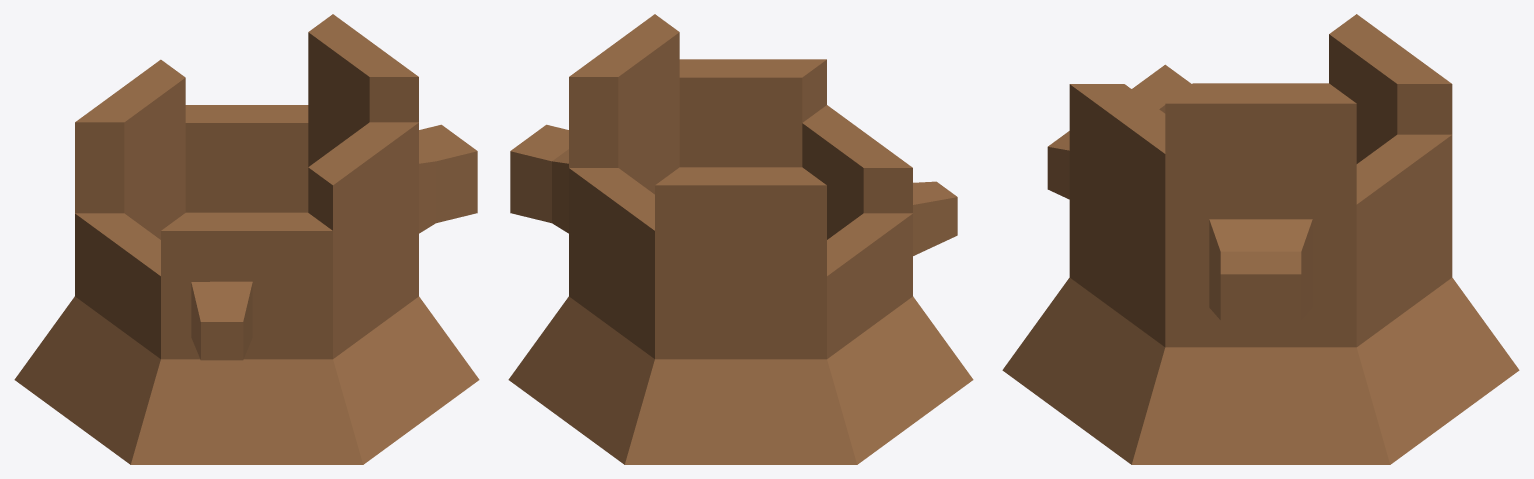
File: stump-2.glb
The picture shows the model from 3 angles, left to right: view 1: azimuth 30°, elevation 25°; view 2: azimuth 150°, elevation 25°; view 3: azimuth 270°, elevation 25°; orthographic projection. The views are drawn at different scales.
Parts seen in each view (by area): view 1: stump_old; view 2: stump_old; view 3: stump_old.
Part boxes in pixels (box(x1,y1,x2,y2)): stump_old: box(14, 14, 479, 464); stump_old: box(508, 14, 973, 464); stump_old: box(1002, 14, 1519, 464).
Bounding box in the file's own units: 0.6689 × 0.5 × 0.6961.
